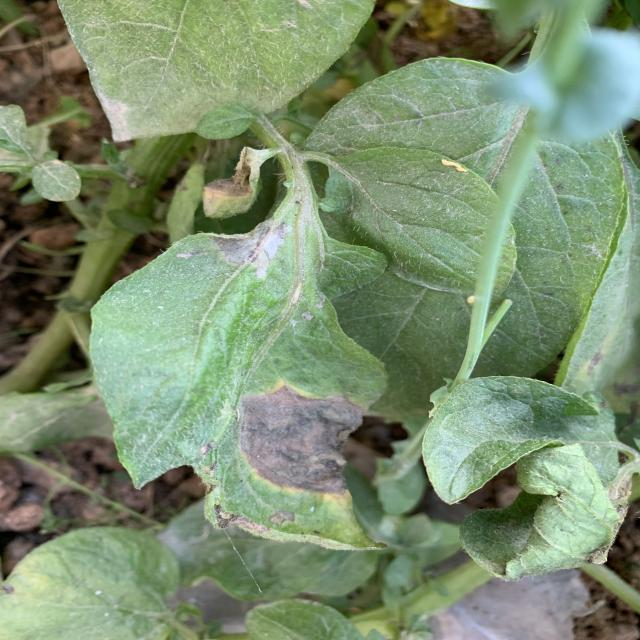lateblight: (240, 386, 362, 494), (208, 222, 292, 279)
